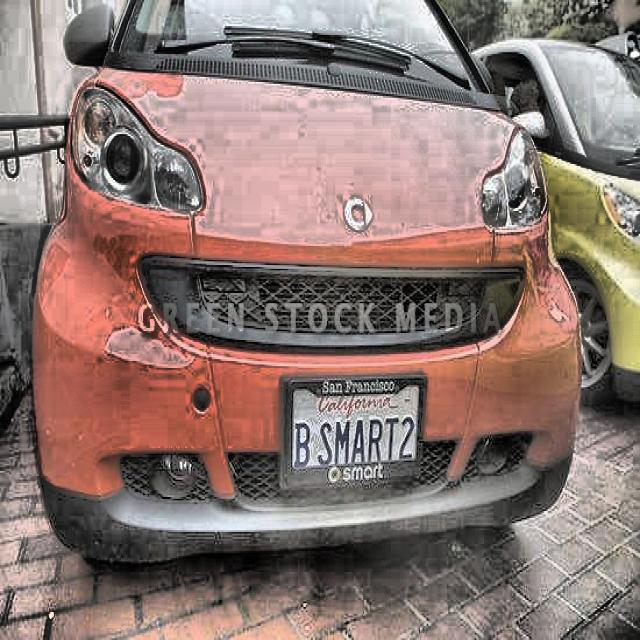license_plate: (285, 380, 421, 475)
